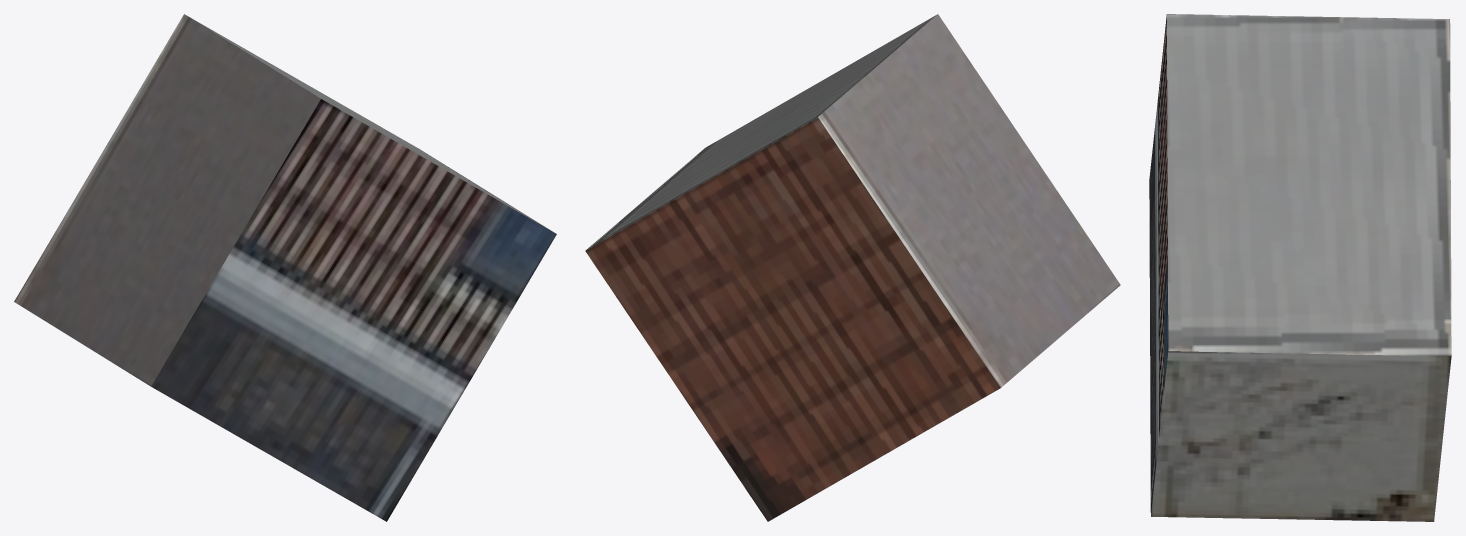
3 renders of one model, left to right at view 1: azimuth 30°, elevation 25°; view 2: azimuth 150°, elevation 25°; view 3: azimuth 270°, elevation 25°, orthographic. The views are drawn at different scales.
Visible parts, largest first — view 1: BAG_0599100100019953; view 2: BAG_0599100100019953; view 3: BAG_0599100100019953.
Boxes of the visible parts, <box> form: BAG_0599100100019953: <box>14,14,556,521</box>; BAG_0599100100019953: <box>585,14,1120,521</box>; BAG_0599100100019953: <box>1149,14,1451,521</box>.
Bounding box in the file's own units: 3.56 × 3.55 × 2.02.
Materials: 1 (1 with a texture image).
